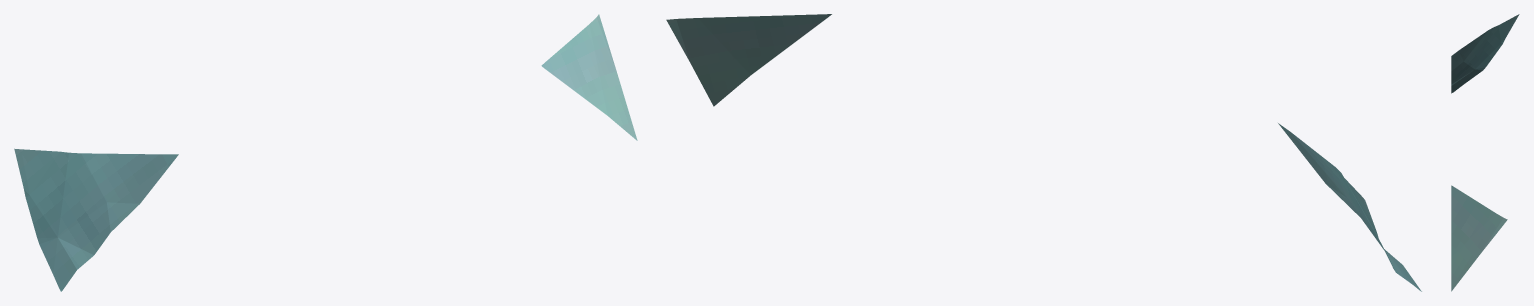
3 views of the same model, side by side, from view 1: azimuth 30°, elevation 25°; view 2: azimuth 150°, elevation 25°; view 3: azimuth 270°, elevation 25° (orthographic). The views are drawn at different scales.
Bounding box in the file's own units: 42.87 × 7.74 × 6.03.
Materials: 1 (1 with a texture image).
